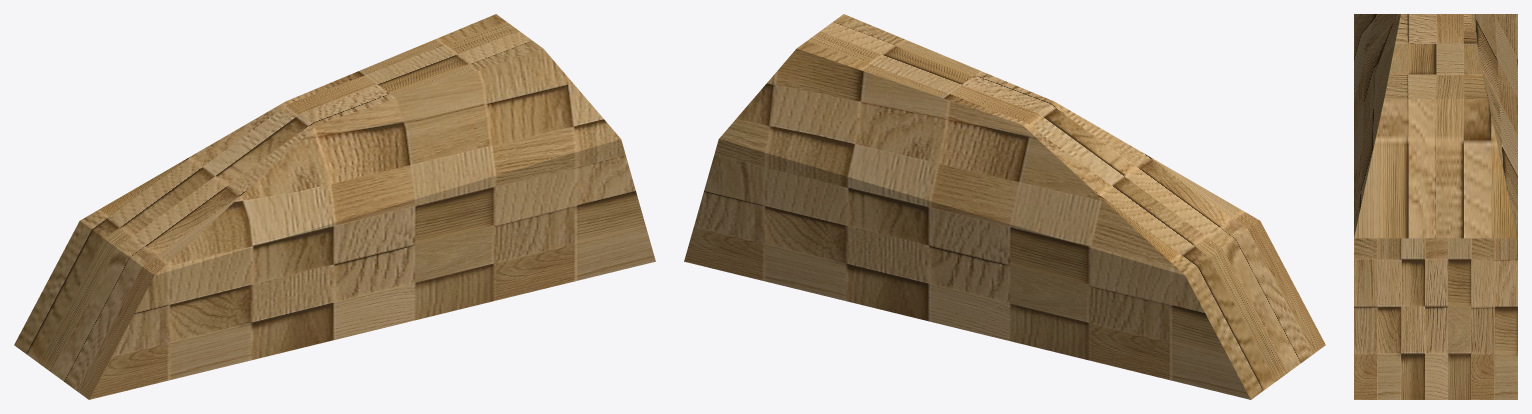
Rendered from Body0.FBX.
The picture shows the model from 3 angles, left to right: view 1: azimuth 30°, elevation 25°; view 2: azimuth 150°, elevation 25°; view 3: azimuth 270°, elevation 25°; orthographic projection. The views are drawn at different scales.
Visible parts, largest first — view 1: Box001; view 2: Box001; view 3: Box001.
Boxes of the visible parts, bbox=[...] form: Box001: bbox=[14, 14, 655, 399]; Box001: bbox=[684, 14, 1325, 399]; Box001: bbox=[1354, 14, 1517, 399].
Bounding box in the file's own units: 61.85 × 23.66 × 14.16.
1 material, 1 textured.
